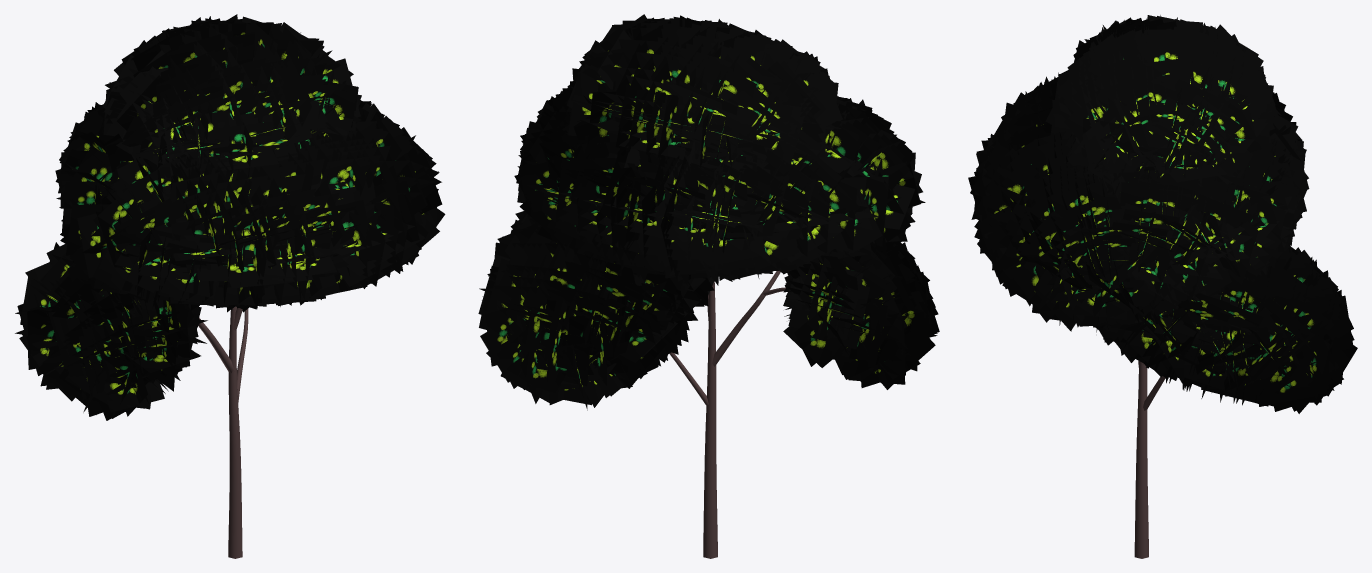
Rendered from tree.gltf.
3 renders of one model, left to right at view 1: azimuth 30°, elevation 25°; view 2: azimuth 150°, elevation 25°; view 3: azimuth 270°, elevation 25°, orthographic. The views are drawn at different scales.
Visible parts, largest first — view 1: Plane.562, tree; view 2: Plane.562, tree; view 3: Plane.562, tree.
Boxes of the visible parts, bbox=[...] form: Plane.562: bbox=[15, 14, 445, 420]; tree: bbox=[198, 232, 250, 558]; Plane.562: bbox=[478, 14, 939, 410]; tree: bbox=[669, 271, 785, 558]; Plane.562: bbox=[968, 15, 1357, 413]; tree: bbox=[1134, 360, 1165, 558].
Size of the model in its own units: 271 by 344 by 235.
2 materials, 1 textured.
